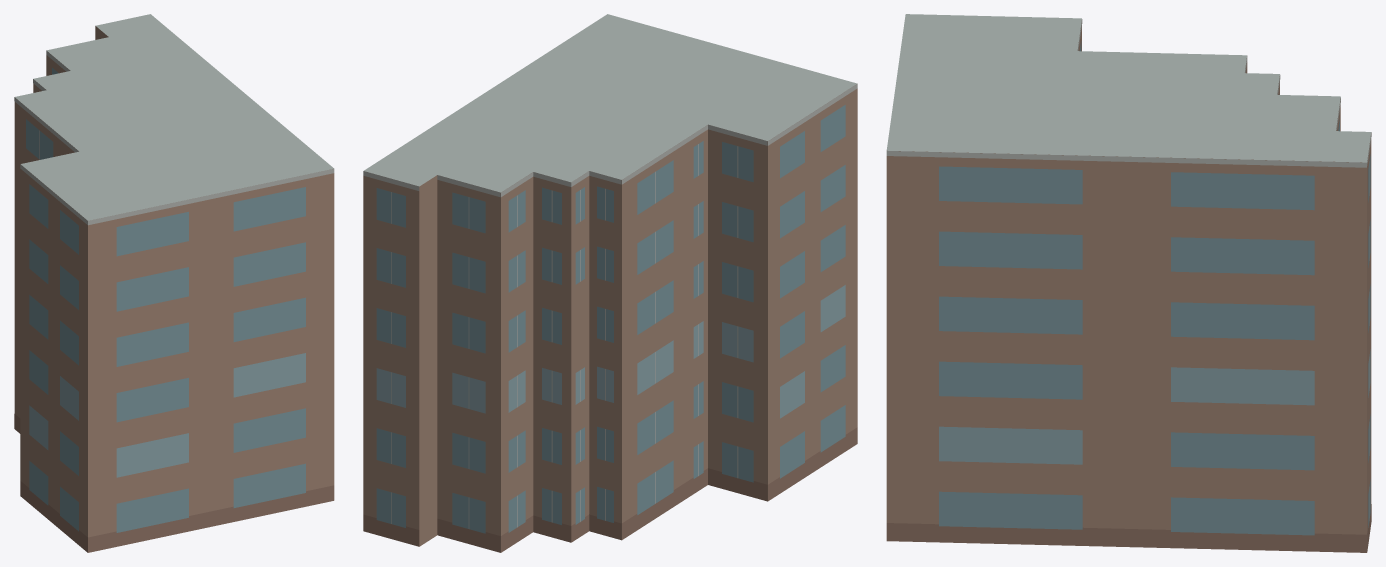
The model's file is survey-upis-32654372.glb.
The picture shows the model from 3 angles, left to right: view 1: azimuth 30°, elevation 25°; view 2: azimuth 150°, elevation 25°; view 3: azimuth 270°, elevation 25°; orthographic projection. The views are drawn at different scales.
Parts seen in each view (by area): view 1: survey-upis-32654372.tmp; view 2: survey-upis-32654372.tmp; view 3: survey-upis-32654372.tmp.
Part boxes in pixels (x1,y1,x2,y2): survey-upis-32654372.tmp: (14,14,334,552); survey-upis-32654372.tmp: (363,14,857,552); survey-upis-32654372.tmp: (886,14,1371,552).
Size of the model in its own units: 14.95 by 18.3 by 20.61.
